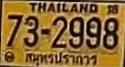2: (52, 16, 66, 48)
3: (23, 15, 38, 46)
7: (6, 14, 22, 46)
8: (102, 17, 118, 49)
9: (68, 16, 83, 48), (85, 16, 100, 48)
SPK: (24, 50, 101, 67)
